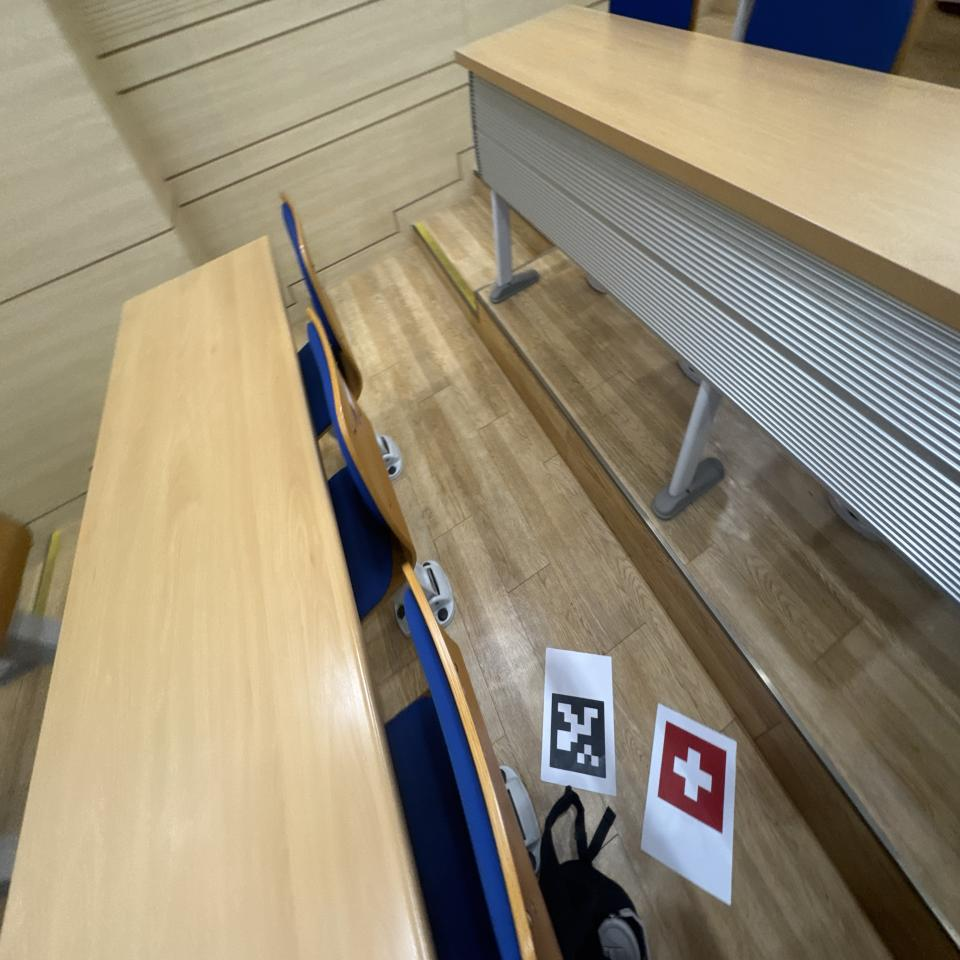ArUro mark: (545, 685, 615, 790)
rescue point: (654, 714, 732, 844)
